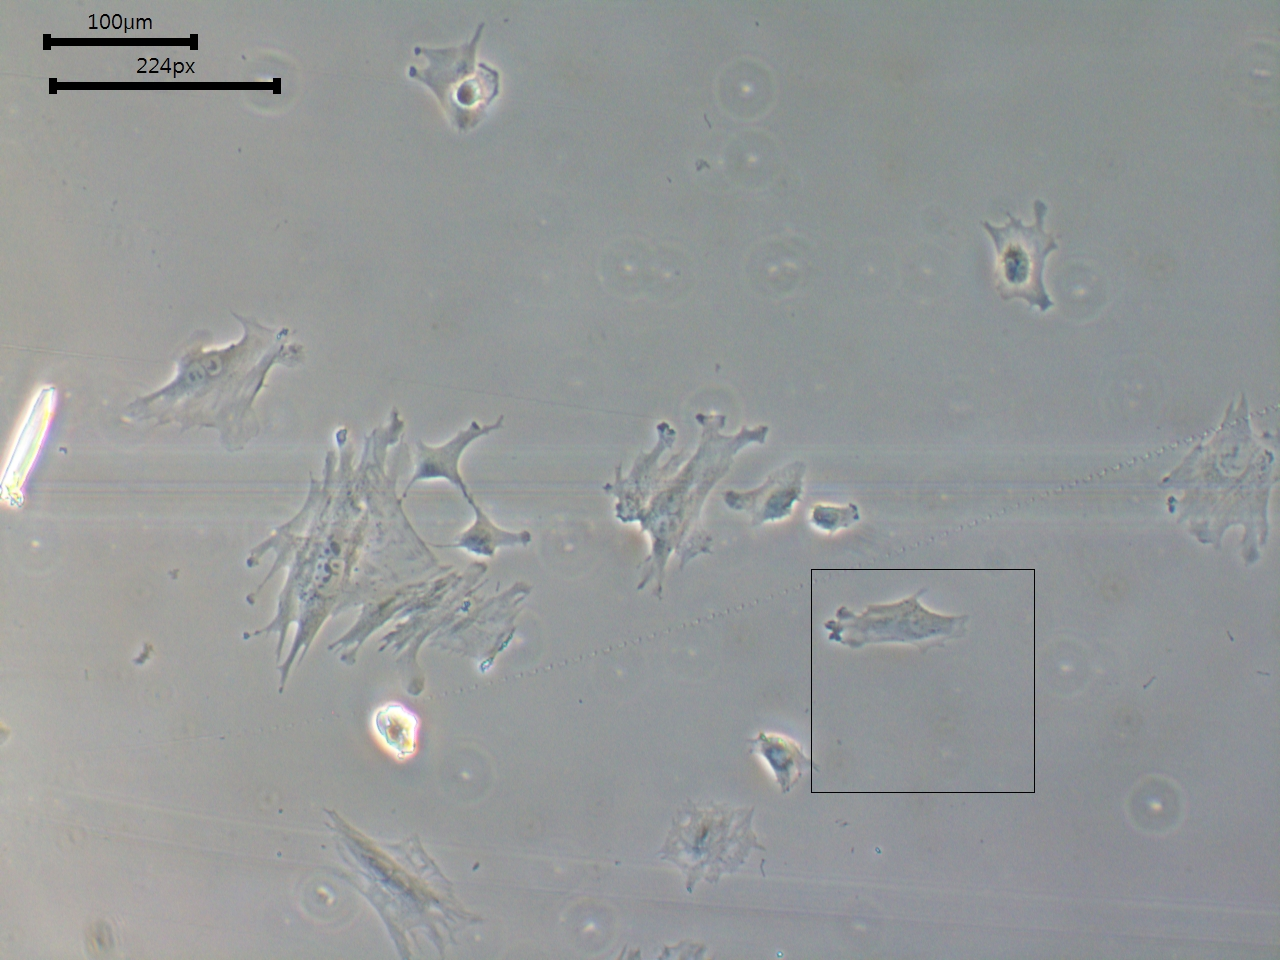small-spread: (968, 199, 1062, 330)
